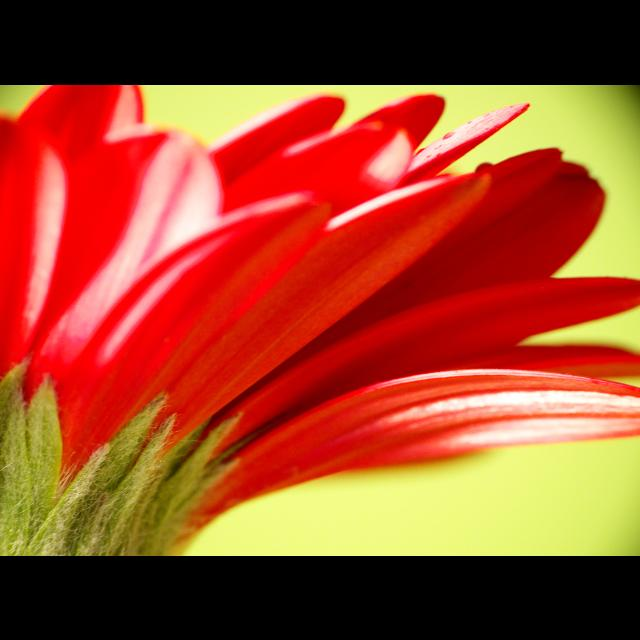Flower: (0, 85, 640, 538)
